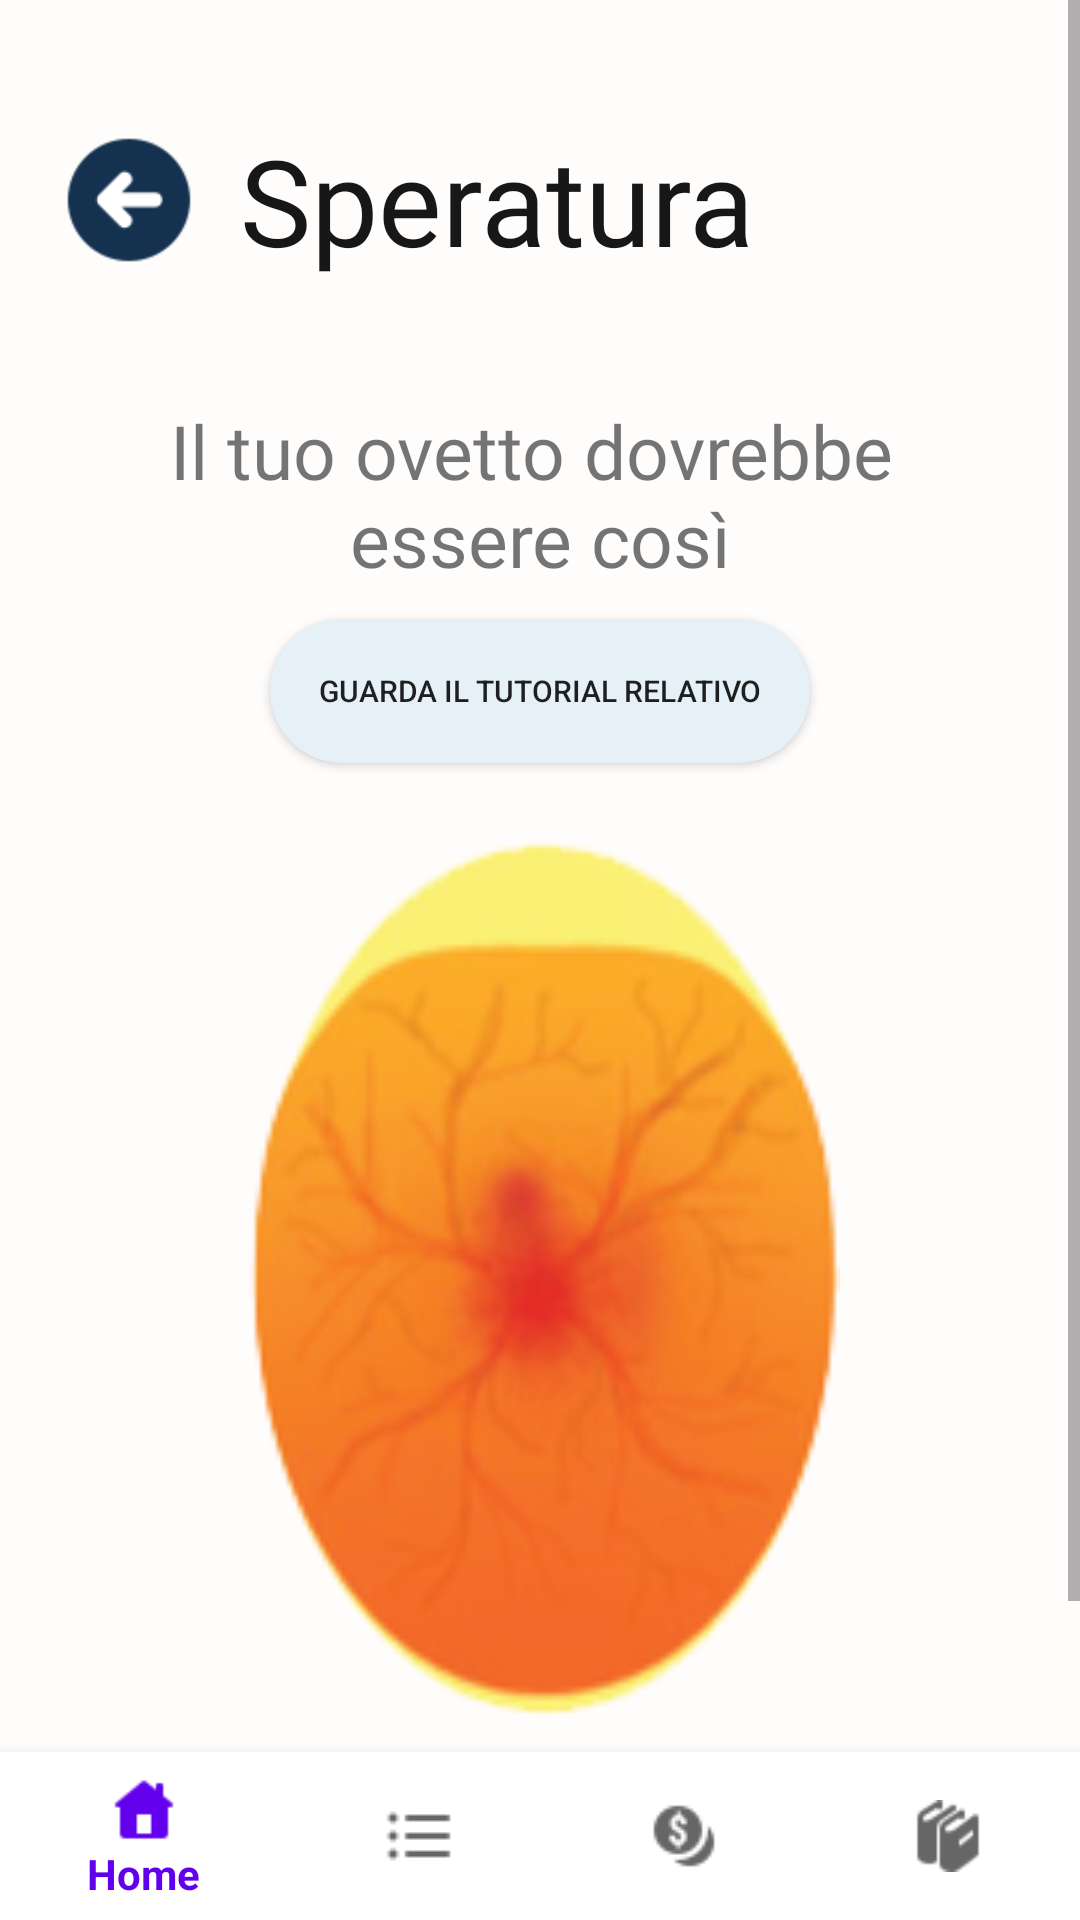

Named icons in this screenshot (1080w x 1920h) and their bounding boxes, (x1, y1, x2, y2):
back: (67, 138, 191, 262)
